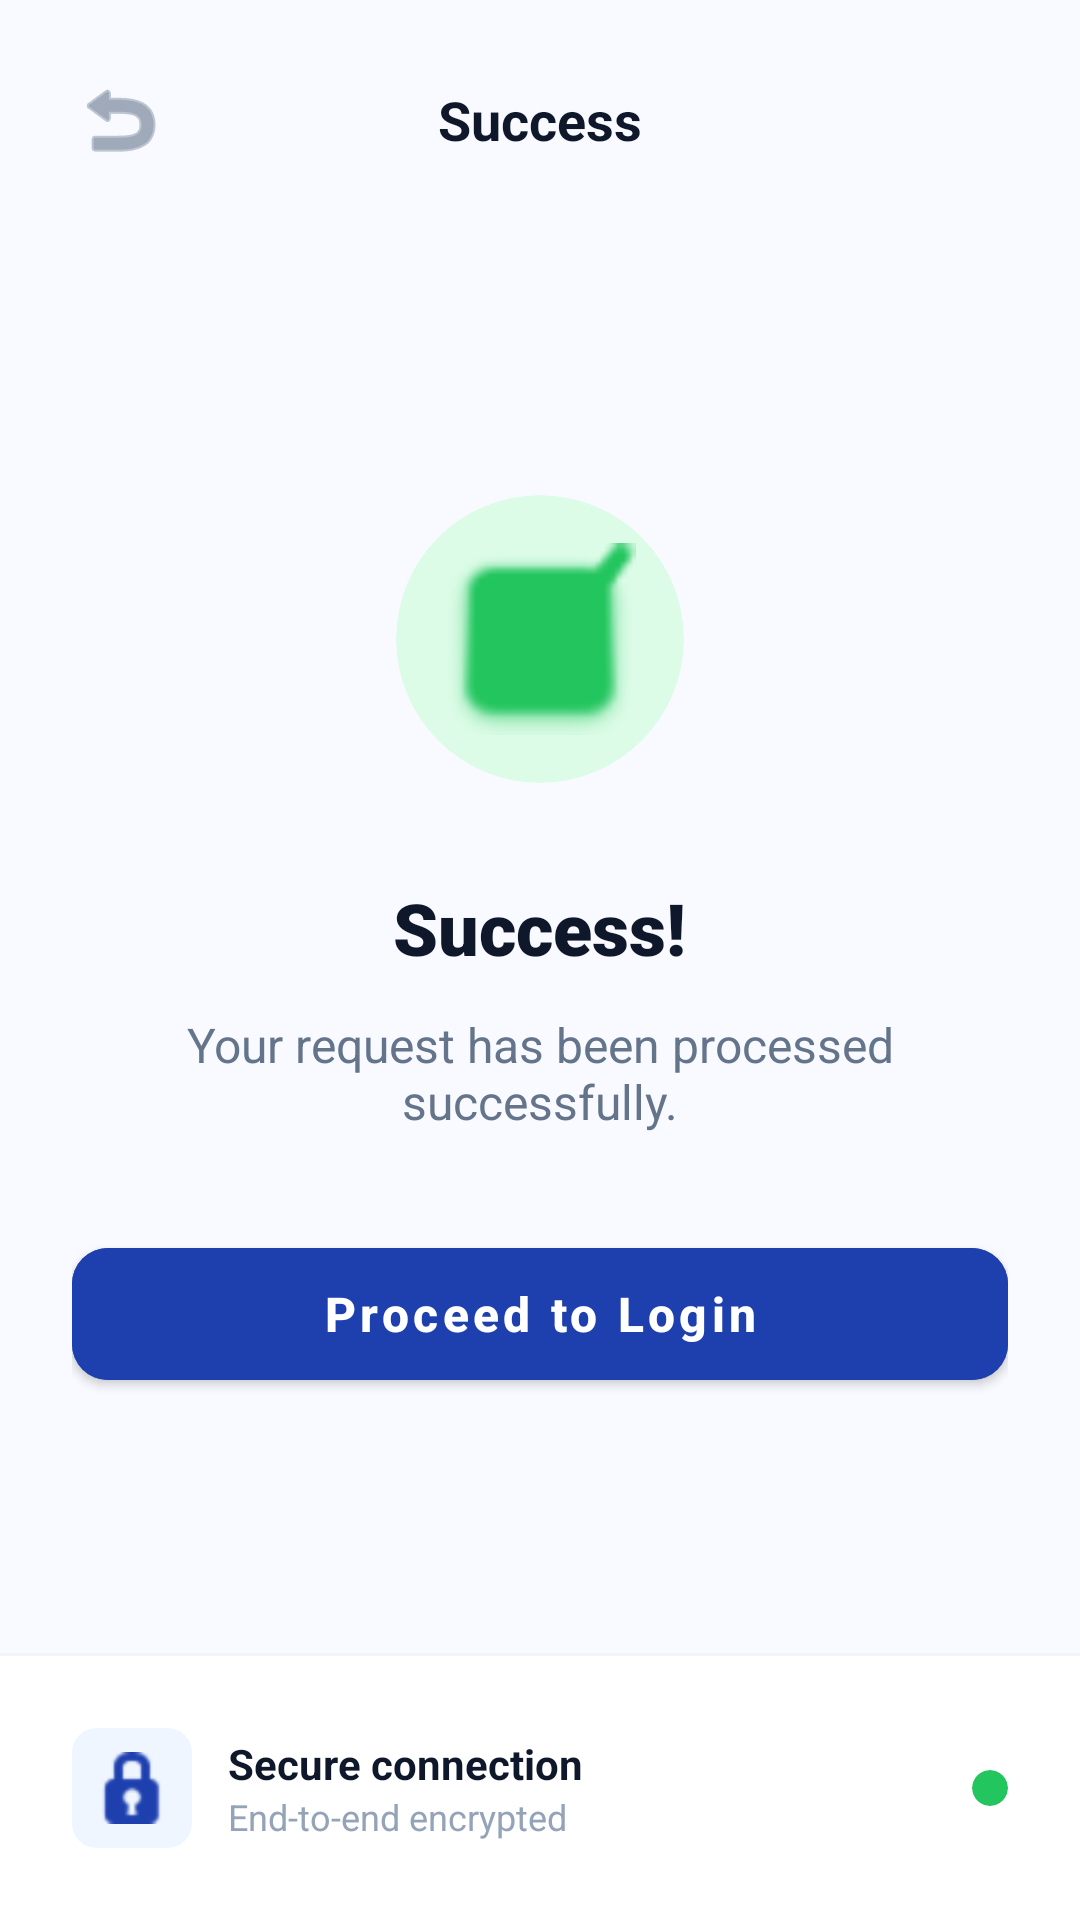

Locate icon controls on the screen. Image size 1080w x 1920h, boxes as BBox(x1, y1, x2, y2).
Back: BBox(87, 90, 156, 152)
